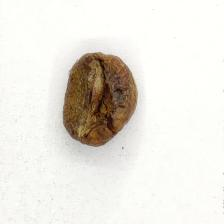NG: (65, 52, 130, 145)
